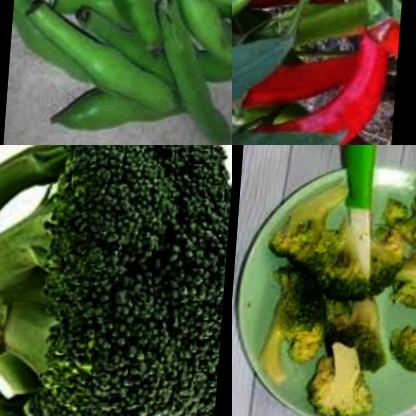beans: (9, 0, 232, 145)
broccoli: (0, 145, 232, 416), (257, 236, 339, 370), (310, 292, 398, 416), (270, 179, 358, 262), (383, 286, 416, 381), (376, 188, 416, 261)
hot pepper: (239, 20, 400, 145), (232, 48, 367, 114), (264, 0, 402, 48), (232, 1, 292, 66), (241, 0, 402, 18)
